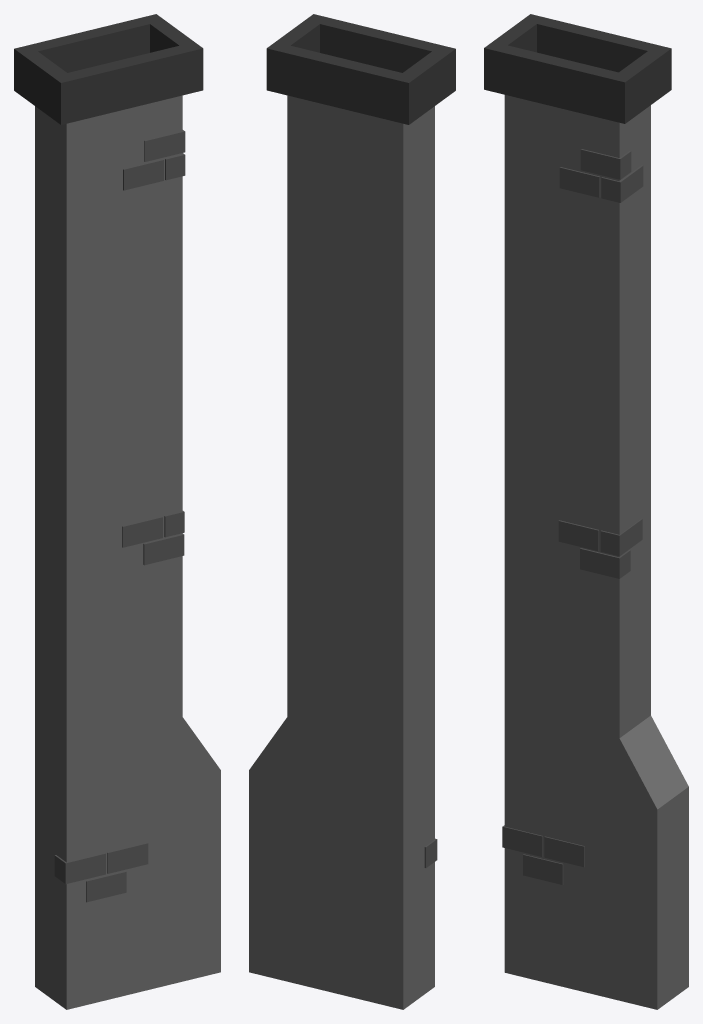
File: Chimney4_C6.fbx
3 views of the same model, side by side, from view 1: azimuth 30°, elevation 25°; view 2: azimuth 150°, elevation 25°; view 3: azimuth 330°, elevation 25° (orthographic).
Parts seen in each view (by area): view 1: Chimney4_C6; view 2: Chimney4_C6; view 3: Chimney4_C6.
Boxes of the visible parts, box(x1,y1,x2,y2) form: Chimney4_C6: box(14, 14, 220, 1009); Chimney4_C6: box(249, 14, 455, 1009); Chimney4_C6: box(484, 14, 688, 1009).
Bounding box in the file's own units: 0.9924 × 5.3 × 0.4819.
